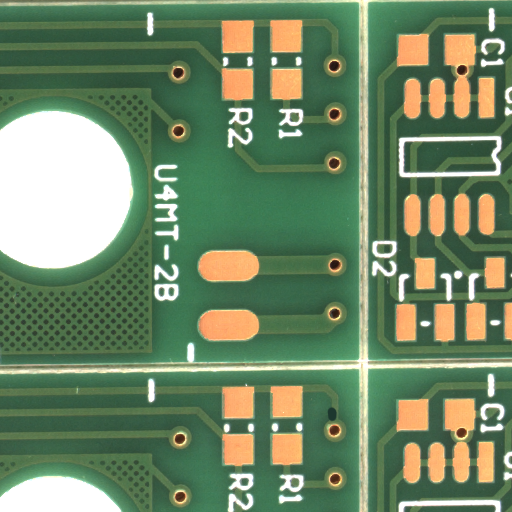Mouse_bite: (331, 414, 339, 429)
